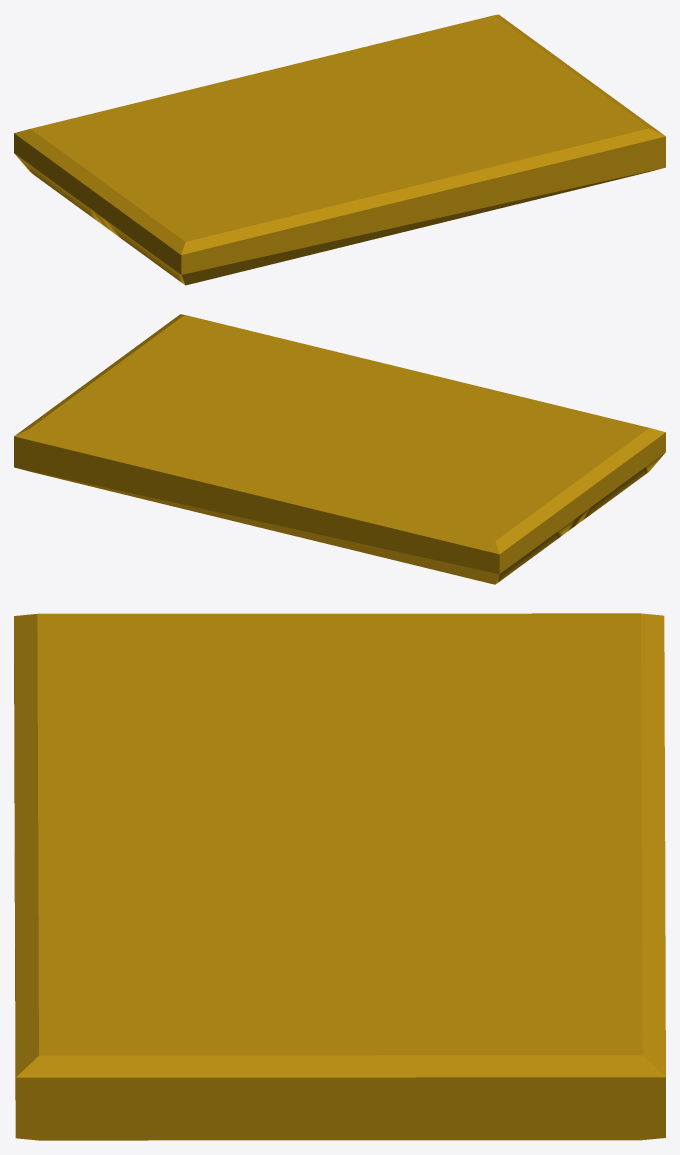
Rendered from HDD.fbx.
The picture shows the model from 3 angles, top to bottom: view 1: azimuth 30°, elevation 25°; view 2: azimuth 150°, elevation 25°; view 3: azimuth 270°, elevation 25°; orthographic projection. The views are drawn at different scales.
Parts seen in each view (by area): view 1: HDD; view 2: HDD; view 3: HDD.
Part boxes in pixels (x1=…): HDD: x1=14, y1=14, x2=665, y2=285; HDD: x1=14, y1=314, x2=665, y2=584; HDD: x1=14, y1=613, x2=665, y2=1140.
Bounding box in the file's own units: 7.67 × 0.6565 × 4.57.
